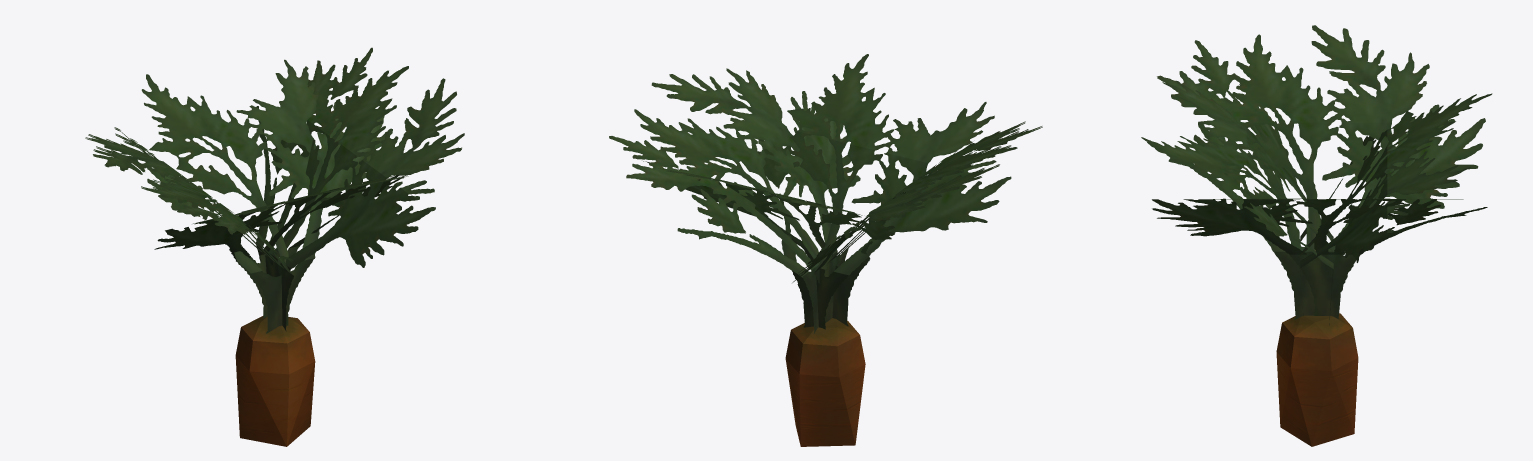
Rendered from gardenbed_carrot2.FBX.
3 renders of one model, left to right at view 1: azimuth 30°, elevation 25°; view 2: azimuth 150°, elevation 25°; view 3: azimuth 270°, elevation 25°, orthographic. The views are drawn at different scales.
Visible parts, largest first — view 1: gardenbed_carrot2; view 2: gardenbed_carrot2; view 3: gardenbed_carrot2.
Part boxes in pixels (bbox=[...]): gardenbed_carrot2: bbox=[85, 47, 464, 446]; gardenbed_carrot2: bbox=[609, 54, 1042, 446]; gardenbed_carrot2: bbox=[1141, 25, 1492, 446].
Size of the model in its own units: 21.84 by 18.05 by 20.25.
1 material, 1 textured.
